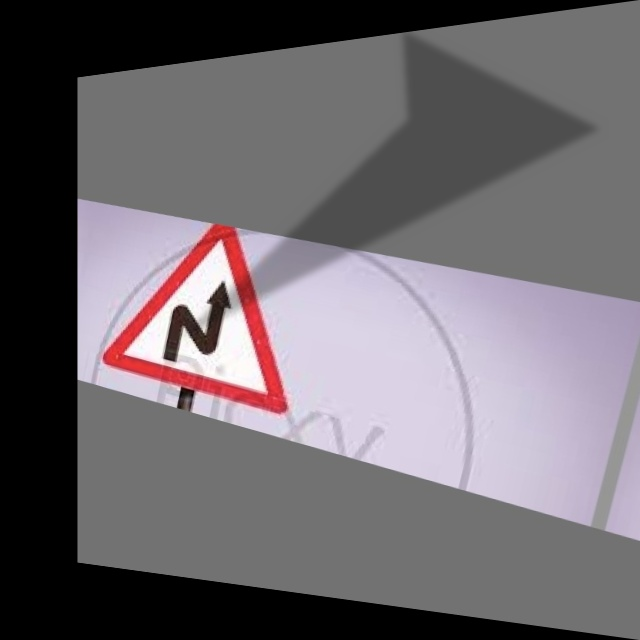Right_Reverse_Bend: (121, 218, 299, 411)
